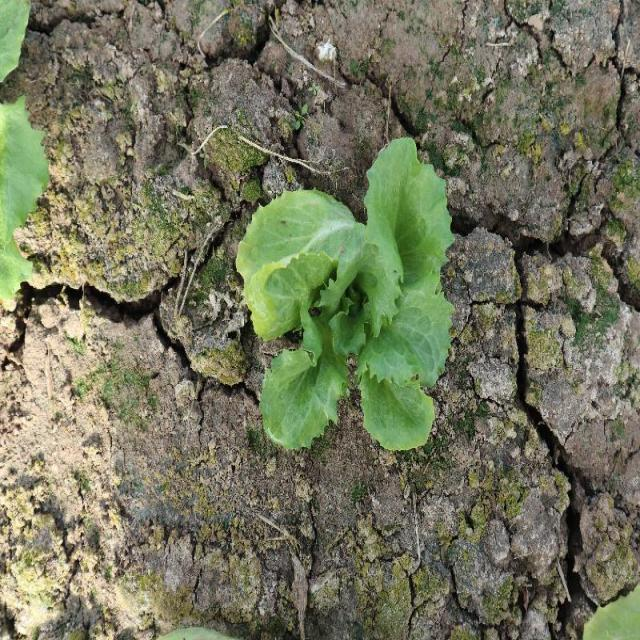crop: (235, 138, 457, 458)
